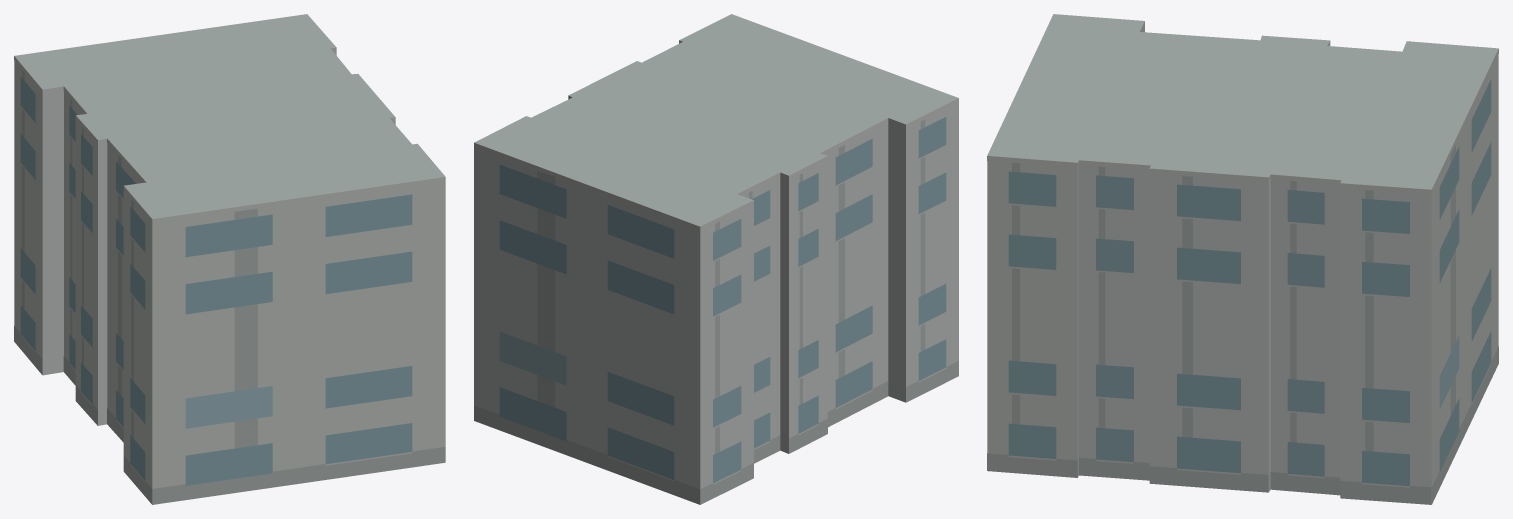
Rendered from survey-upis-32764608.glb.
The picture shows the model from 3 angles, left to right: view 1: azimuth 30°, elevation 25°; view 2: azimuth 150°, elevation 25°; view 3: azimuth 270°, elevation 25°; orthographic projection. The views are drawn at different scales.
Parts seen in each view (by area): view 1: survey-upis-32764608.tmp; view 2: survey-upis-32764608.tmp; view 3: survey-upis-32764608.tmp.
Boxes of the visible parts, bbox=[...] form: survey-upis-32764608.tmp: bbox=[14, 14, 445, 504]; survey-upis-32764608.tmp: bbox=[474, 14, 958, 504]; survey-upis-32764608.tmp: bbox=[987, 14, 1498, 504].
Size of the model in its own units: 18.24 by 15.25 by 22.45.
